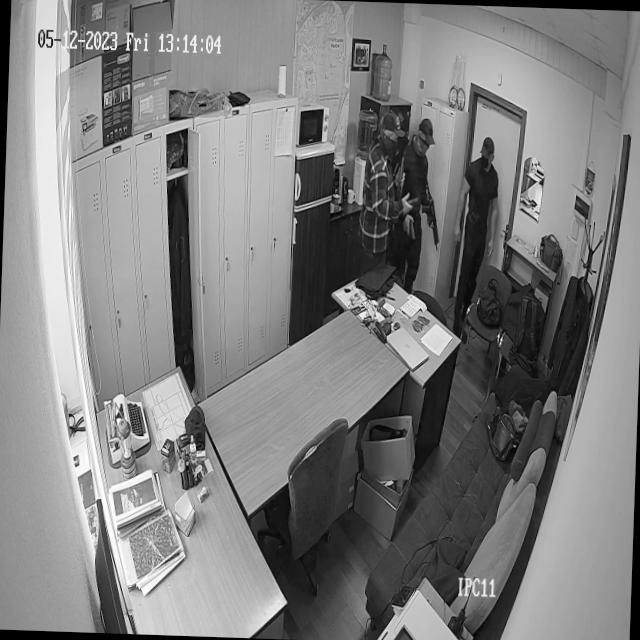gun: (420, 190, 441, 251), (407, 218, 417, 244)
person: (452, 136, 498, 314), (360, 113, 400, 264)
person with a gun: (400, 116, 430, 280)
